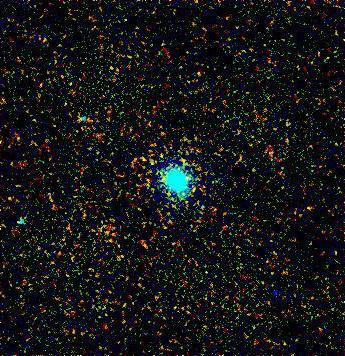star: (260, 275, 290, 305)
